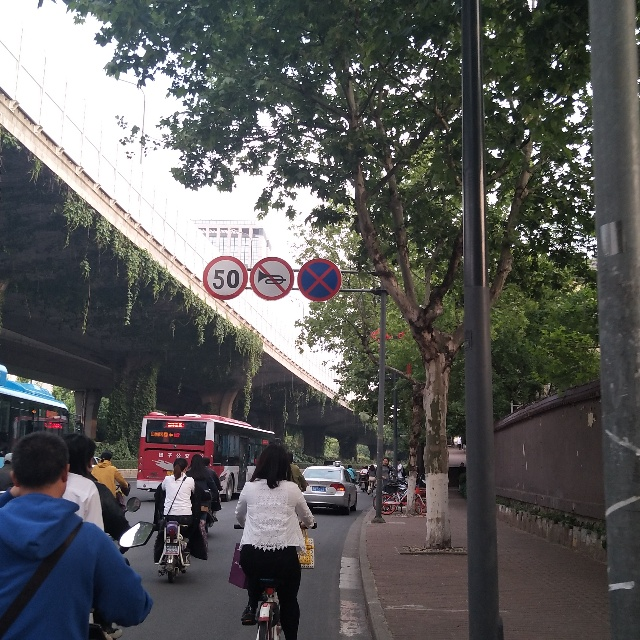nohonk: (252, 253, 295, 300)
stop: (293, 255, 348, 307)
